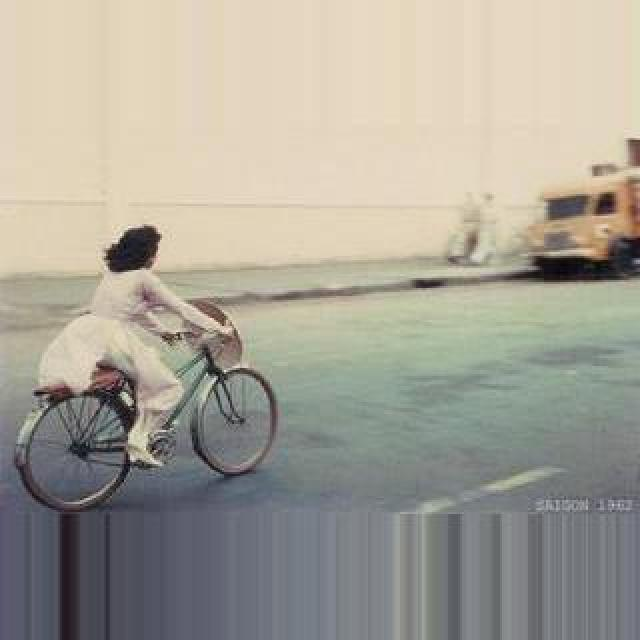MC-Bike: (56, 224, 242, 472)
Person: (18, 306, 284, 508)
